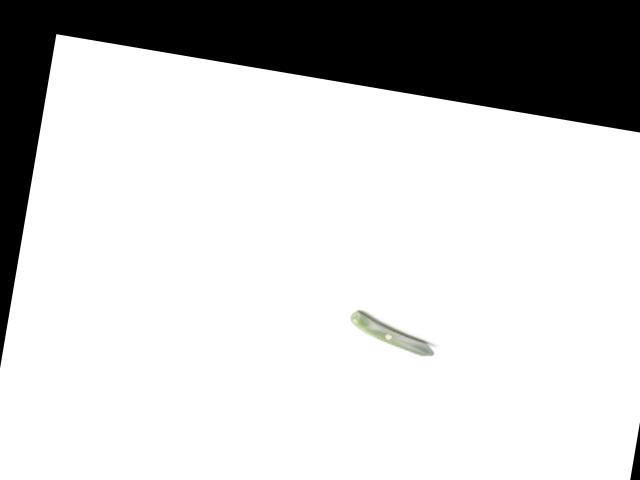cucumber: (345, 310, 438, 357)
